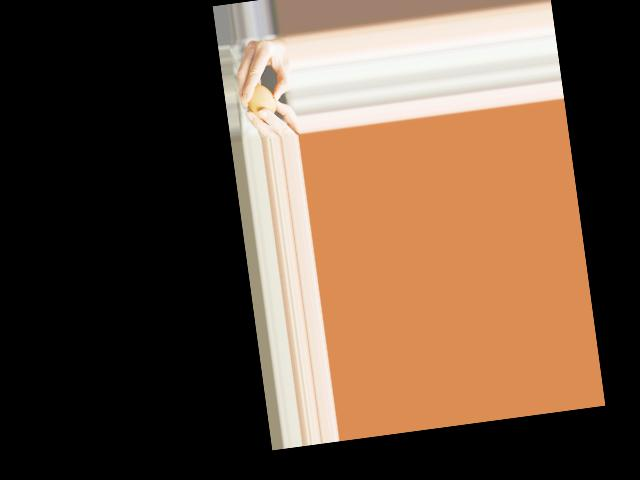egg: (245, 83, 278, 121)
